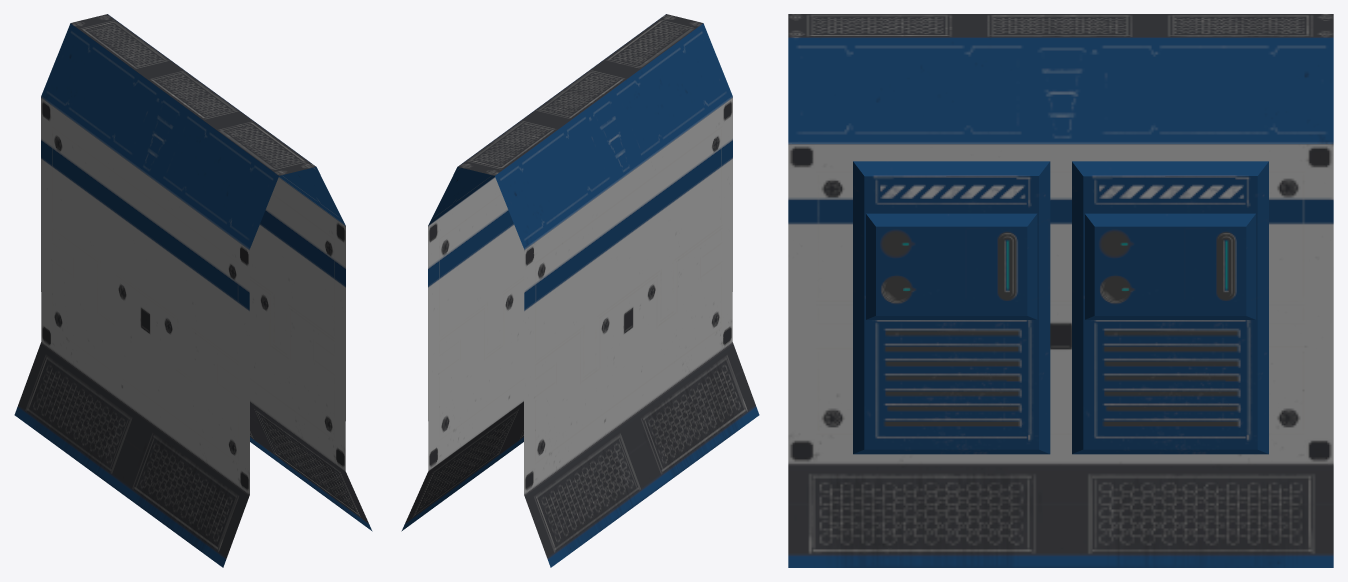
File: Wall_4_Sci_Fi.fbx
The picture shows the model from 3 angles, left to right: view 1: azimuth 30°, elevation 25°; view 2: azimuth 150°, elevation 25°; view 3: azimuth 270°, elevation 25°; orthographic projection. The views are drawn at different scales.
Parts seen in each view (by area): view 1: Sci_Fi_wall_4; view 2: Sci_Fi_wall_4; view 3: Sci_Fi_wall_4.
Boxes of the visible parts, box(x1,y1,x2,y2) form: Sci_Fi_wall_4: box(14, 14, 372, 567); Sci_Fi_wall_4: box(401, 14, 759, 567); Sci_Fi_wall_4: box(788, 14, 1333, 567).
Size of the model in its own units: 163 by 395 by 395.
